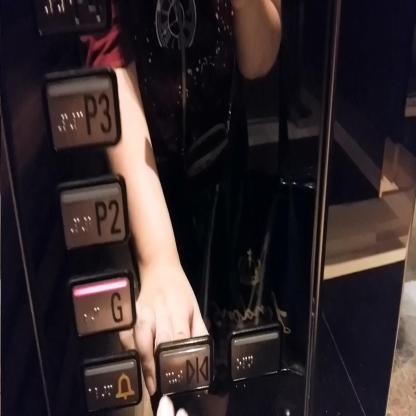G: (66, 264, 138, 343)
P2: (53, 171, 132, 254)
P3: (40, 62, 122, 156)
alarm: (78, 345, 144, 415)
close: (153, 330, 216, 400)
empty: (226, 320, 283, 384)
